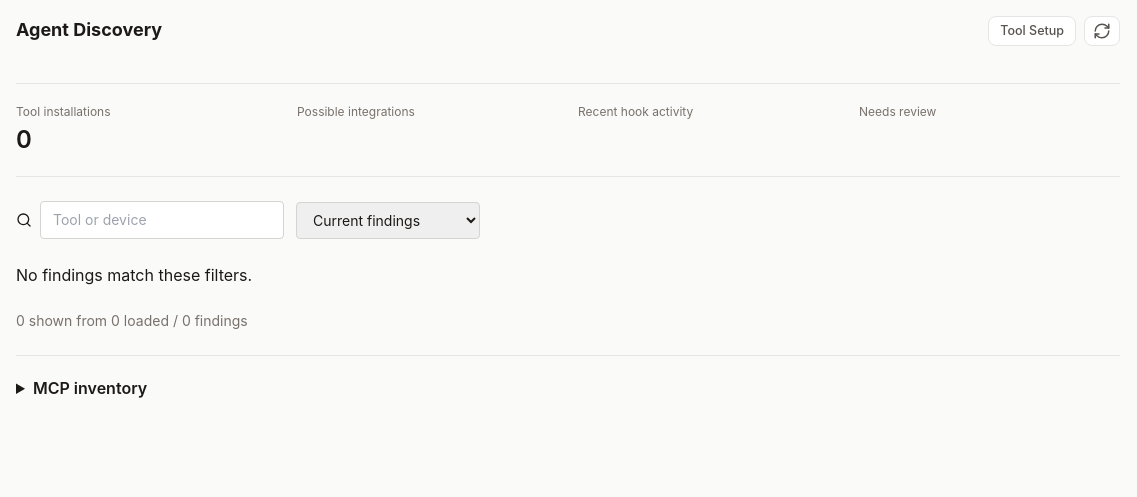
discovery evidence › keeps the legacy filter accessible when only legacy findings exist
Select "Legacy / unverified" in the dropdown named "Filter findings" at [388, 220], box [296, 202, 480, 238]
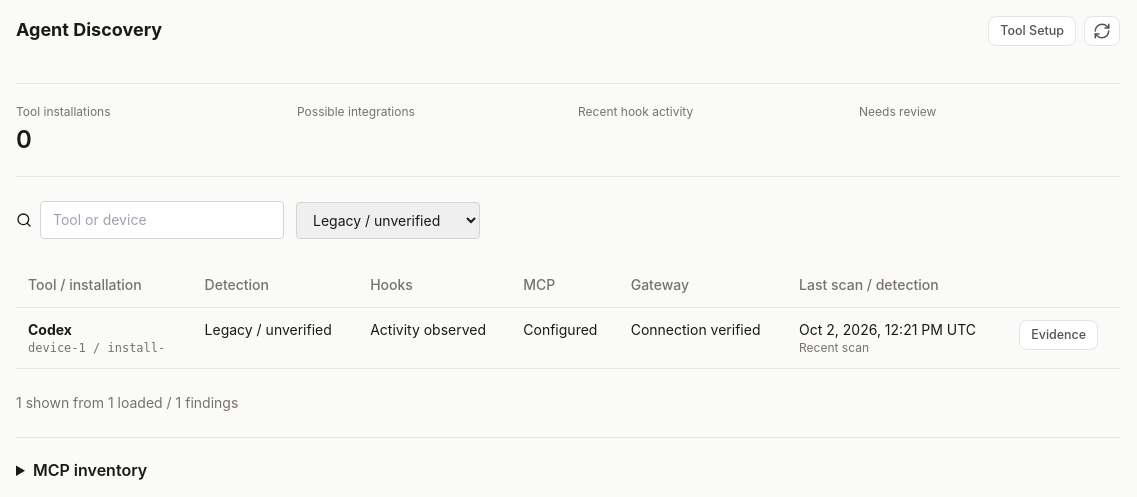
Now the text "Codex" is shown, box [28, 321, 72, 338]
